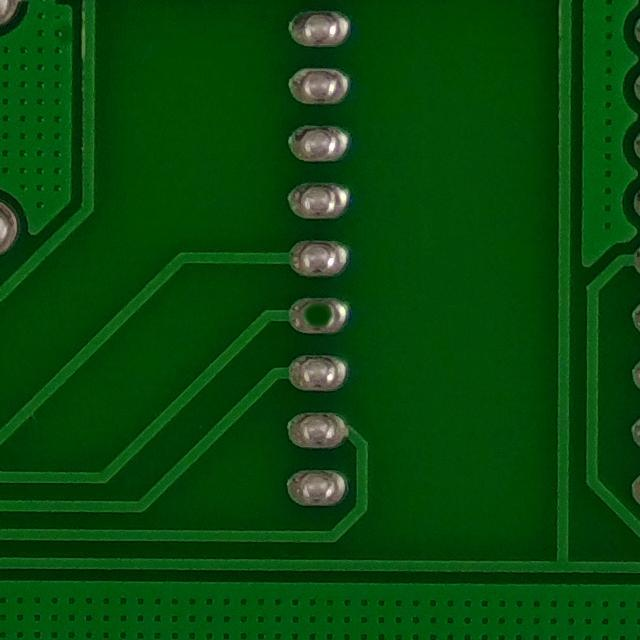missing_hole: (290, 294, 350, 346)
